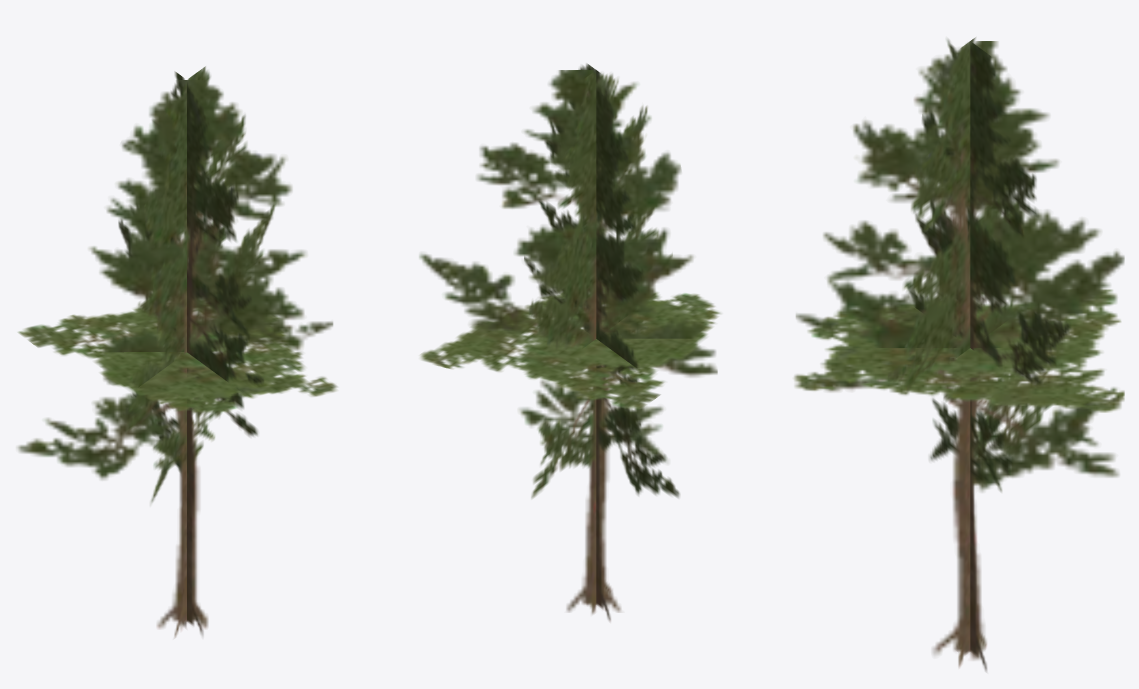
Rendered from tpine1_far.glb.
3 views of the same model, side by side, from view 1: azimuth 30°, elevation 25°; view 2: azimuth 150°, elevation 25°; view 3: azimuth 270°, elevation 25° (orthographic). The views are drawn at different scales.
Visible parts, largest first — view 1: prefab; view 2: prefab; view 3: prefab.
Boxes of the visible parts, x1,y1,x2,y2 form: prefab: (17,66,337,637); prefab: (419,63,720,621); prefab: (794,37,1124,671).
Size of the model in its own units: 6.28 by 12.54 by 6.09.
1 material, 1 textured.
